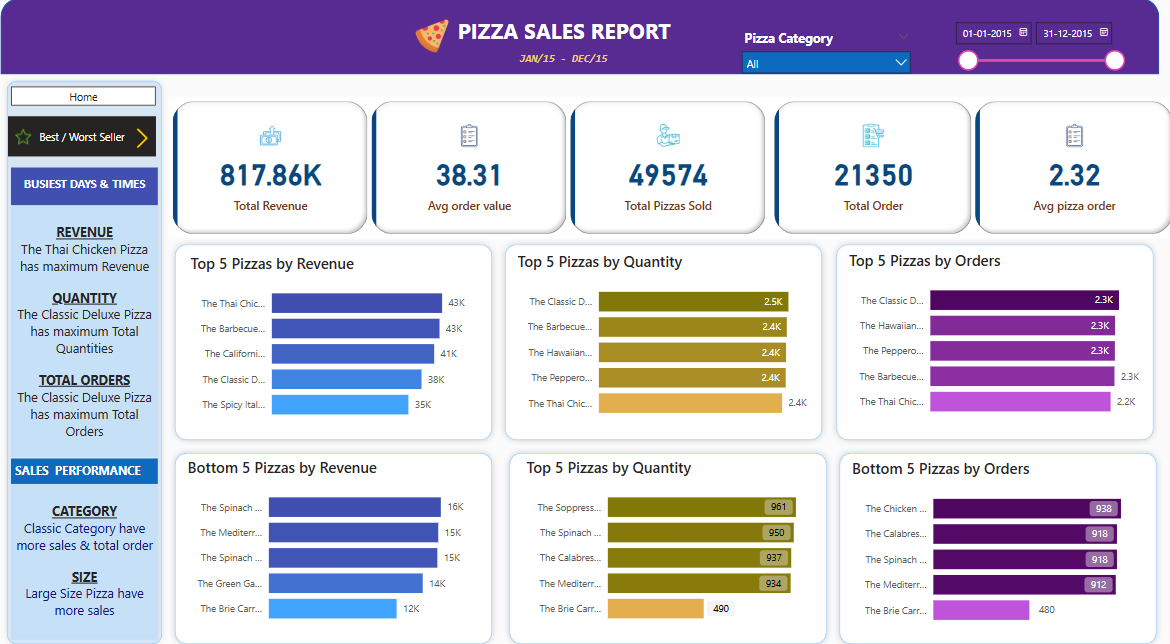

What the dashboard file says about the page in this screenshot:
{"tool":"powerbi","page":{"name":"Best / Worst Seller","canvas":[1500,820],"ordinal":1},"visuals":[{"type":"cardVisual","fields":{"Data":["pizza_sales.Total Revenue","pizza_sales.Avg order value","pizza_sales.Total Pizzas Sold"]},"box":[231.5,124.1,757.4,177.8],"z":0},{"type":"cardVisual","fields":{"Data":["pizza_sales.Total Order","pizza_sales.Avg pizza order"]},"box":[988.9,124.1,511.1,177.8],"z":1000},{"type":"shape","box":[20.4,0,1457.4,96.3],"z":2000},{"type":"textbox","box":[563,16.7,335.2,63],"z":3000},{"type":"textbox","box":[596.3,61.1,264.8,35.2],"z":4000},{"type":"image","box":[533.3,20.4,59.3,53.7],"z":5000},{"type":"shape","box":[232,301.8,415,262.2],"z":6000},{"type":"shape","box":[20.8,96.2,211.3,724.4],"z":7000},{"type":"textbox","box":[34,213.2,184.9,47.2],"z":8000},{"type":"textbox","box":[34,260.3,184.9,316.9],"z":9000},{"type":"textbox","box":[34,579.2,184.9,32.1],"z":10000},{"type":"textbox","box":[34,611.2,184.9,196.2],"z":11000},{"type":"shape","box":[647.1,301.8,415,262.2],"z":12000},{"type":"shape","box":[1064,301.8,415,262.2],"z":13000},{"type":"shape","box":[232,564.1,415,256.6],"z":14000},{"type":"shape","box":[652.7,564.1,415,256.6],"z":15000},{"type":"shape","box":[1067.8,564.1,415,256.6],"z":16000},{"type":"barChart","title":"Top 5 Pizzas by Revenue","fields":{"Y":["pizza_sales.Total Revenue"],"Category":["pizza_sales.pizza_name"]},"box":[254.7,321.1,375,230.3],"z":17000},{"type":"barChart","title":"Bottom 5 Pizzas by Revenue","fields":{"Y":["pizza_sales.Total Revenue"],"Category":["pizza_sales.pizza_name"]},"box":[251,576.5,374.3,230.3],"z":18000},{"type":"barChart","title":"Top 5 Pizzas by Quantity","fields":{"Category":["pizza_sales.pizza_name"],"Y":["pizza_sales.Total Pizzas Sold"]},"box":[665.9,318.9,374.3,230.3],"z":19000},{"type":"barChart","title":"Top 5 Pizzas by Quantity","fields":{"Category":["pizza_sales.pizza_name"],"Y":["pizza_sales.Total Pizzas Sold"]},"box":[676.9,576.5,374.3,230.3],"z":20000},{"type":"barChart","title":"Top 5 Pizzas by Orders","fields":{"Category":["pizza_sales.pizza_name"],"Y":["pizza_sales.Total Order"]},"box":[1082.9,316.7,374.3,230.3],"z":21000},{"type":"barChart","title":"Bottom 5 Pizzas by Orders","fields":{"Category":["pizza_sales.pizza_name"],"Y":["pizza_sales.Total Order"]},"box":[1086.6,578.7,374.3,230.3],"z":22000},{"type":"slicer","fields":{"Values":["pizza_sales.pizza_category"]},"box":[943.3,34,232,62.3],"z":22001},{"type":"slicer","fields":{"Values":["pizza_sales.order_date"]},"box":[1209.3,20.8,233.9,79.2],"z":22002},{"type":"pageNavigator","box":[30.2,149,186.8,50.9],"z":22004},{"type":"image","box":[181.1,150.9,35.8,50.9],"z":22005},{"type":"pageNavigator","box":[34,111.3,183,24.5],"z":22006},{"type":"image","box":[34,149,30.2,50.9],"z":22007}]}

Visuals, with their boxes in screenshot pixels (x1, y1, x2, y2), scaled from the page's 1500x820 canvas onto the 1170x644 screenshot:
cardVisual - pizza_sales.Total Revenue x pizza_sales.Avg order value: {"x1": 181, "y1": 97, "x2": 771, "y2": 237}
cardVisual - pizza_sales.Total Order x pizza_sales.Avg pizza order: {"x1": 771, "y1": 97, "x2": 1169, "y2": 237}
shape: {"x1": 16, "y1": 0, "x2": 1153, "y2": 76}
textbox: {"x1": 439, "y1": 13, "x2": 701, "y2": 63}
textbox: {"x1": 465, "y1": 48, "x2": 672, "y2": 76}
image: {"x1": 416, "y1": 16, "x2": 462, "y2": 58}
shape: {"x1": 181, "y1": 237, "x2": 505, "y2": 443}
shape: {"x1": 16, "y1": 76, "x2": 181, "y2": 643}
textbox: {"x1": 27, "y1": 167, "x2": 171, "y2": 205}
textbox: {"x1": 27, "y1": 204, "x2": 171, "y2": 453}
textbox: {"x1": 27, "y1": 455, "x2": 171, "y2": 480}
textbox: {"x1": 27, "y1": 480, "x2": 171, "y2": 634}
shape: {"x1": 505, "y1": 237, "x2": 828, "y2": 443}
shape: {"x1": 830, "y1": 237, "x2": 1154, "y2": 443}
shape: {"x1": 181, "y1": 443, "x2": 505, "y2": 643}
shape: {"x1": 509, "y1": 443, "x2": 833, "y2": 643}
shape: {"x1": 833, "y1": 443, "x2": 1157, "y2": 643}
"Top 5 Pizzas by Revenue" barChart: {"x1": 199, "y1": 252, "x2": 491, "y2": 433}
"Bottom 5 Pizzas by Revenue" barChart: {"x1": 196, "y1": 453, "x2": 488, "y2": 634}
"Top 5 Pizzas by Quantity" barChart: {"x1": 519, "y1": 250, "x2": 811, "y2": 431}
"Top 5 Pizzas by Quantity" barChart: {"x1": 528, "y1": 453, "x2": 820, "y2": 634}
"Top 5 Pizzas by Orders" barChart: {"x1": 845, "y1": 249, "x2": 1137, "y2": 430}
"Bottom 5 Pizzas by Orders" barChart: {"x1": 848, "y1": 454, "x2": 1140, "y2": 635}
slicer - pizza_sales.pizza_category: {"x1": 736, "y1": 27, "x2": 917, "y2": 76}
slicer - pizza_sales.order_date: {"x1": 943, "y1": 16, "x2": 1126, "y2": 79}
pageNavigator: {"x1": 24, "y1": 117, "x2": 169, "y2": 157}
image: {"x1": 141, "y1": 119, "x2": 169, "y2": 158}
pageNavigator: {"x1": 27, "y1": 87, "x2": 169, "y2": 107}
image: {"x1": 27, "y1": 117, "x2": 50, "y2": 157}
